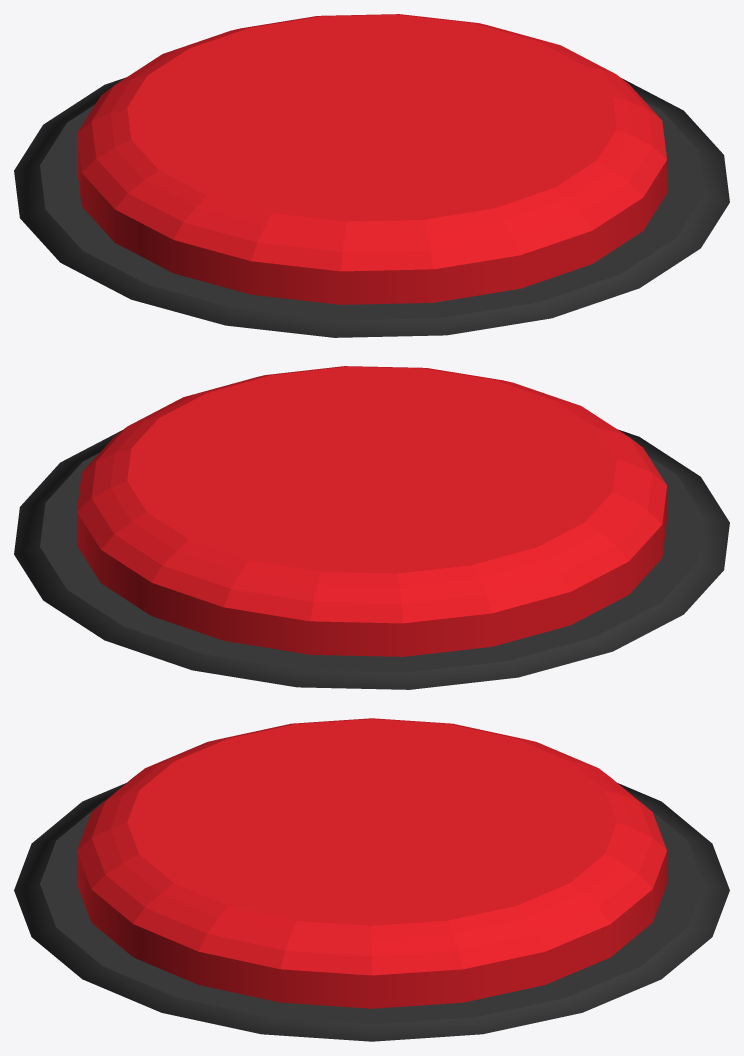
Rendered from button.FBX.
3 views of the same model, one above another, from view 1: azimuth 30°, elevation 25°; view 2: azimuth 150°, elevation 25°; view 3: azimuth 270°, elevation 25° (orthographic).
Visible parts, largest first — view 1: pCylinder1; view 2: pCylinder1; view 3: pCylinder1.
Boxes of the visible parts, x1,y1,x2,y2 form: pCylinder1: [14, 14, 729, 337]; pCylinder1: [14, 366, 729, 689]; pCylinder1: [14, 718, 729, 1041].
Bounding box in the file's own units: 9.88 × 1.04 × 9.88.
